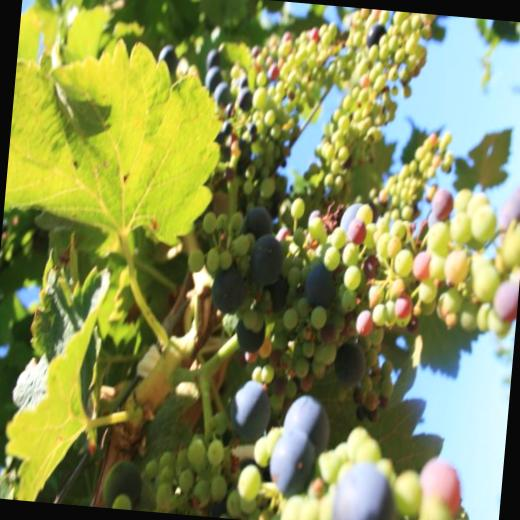Orange: (103, 0, 520, 520)
